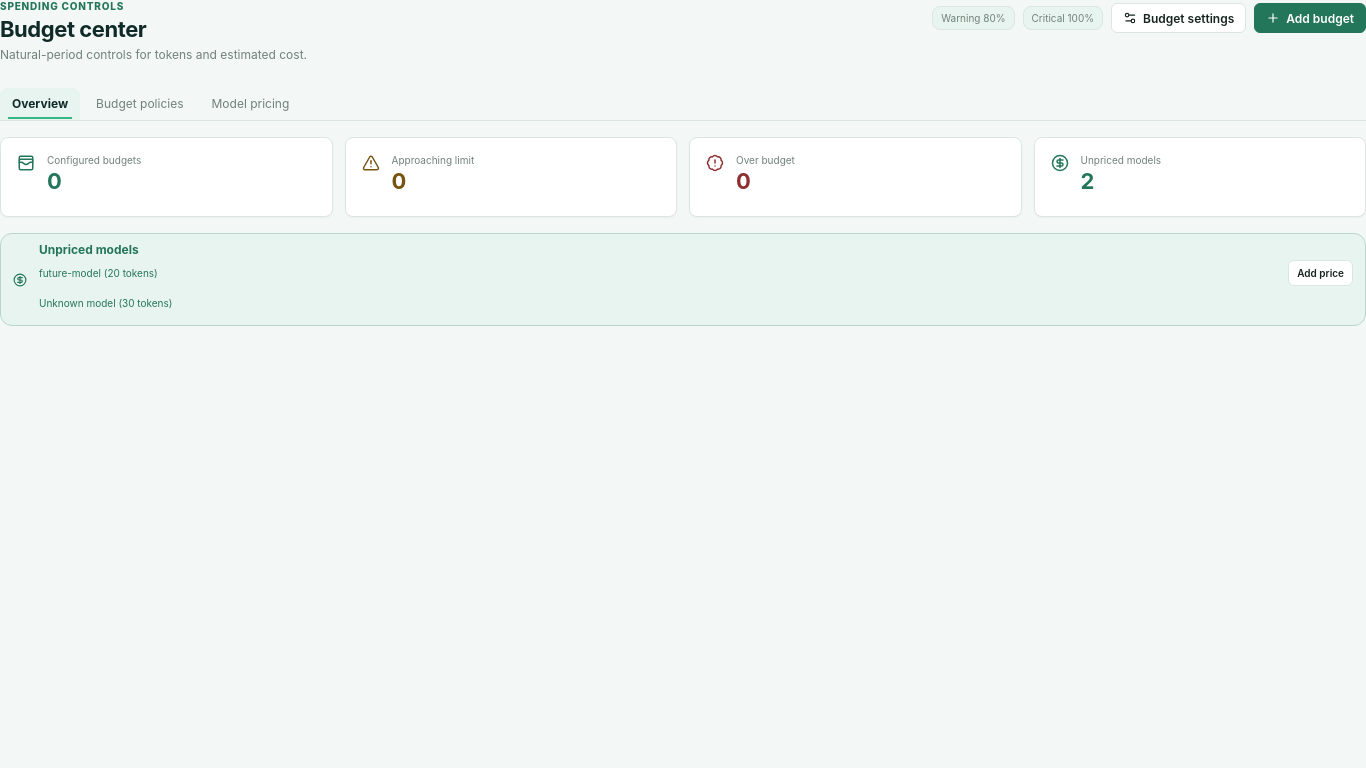
Test: BudgetsView model options › passes priced, concrete unpriced, and one missing-ID option into the budget drawer
Click the button "Add budget" at x=1310, y=18, box [1254,3,1365,33]
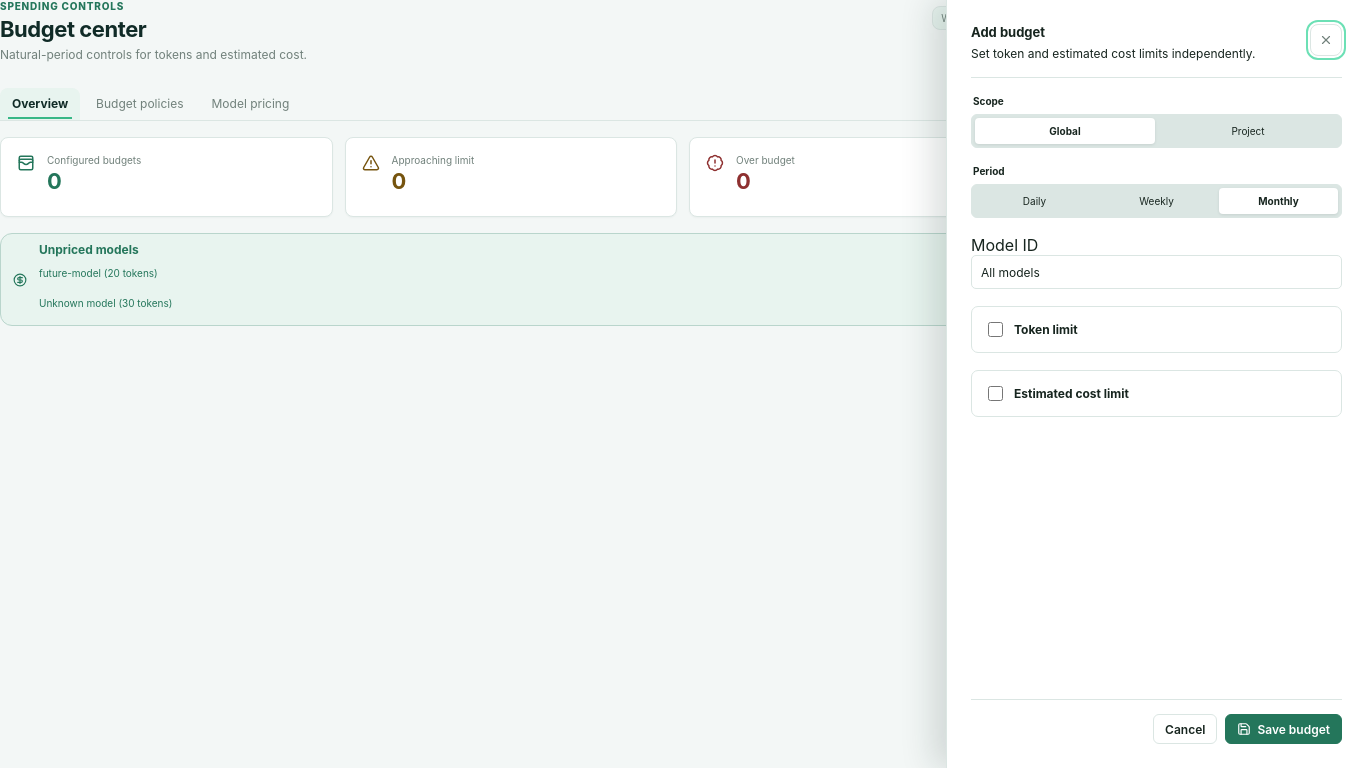
Focus the dropdown labelled "Model ID" at x=1156, y=272, box [971,255,1342,289]
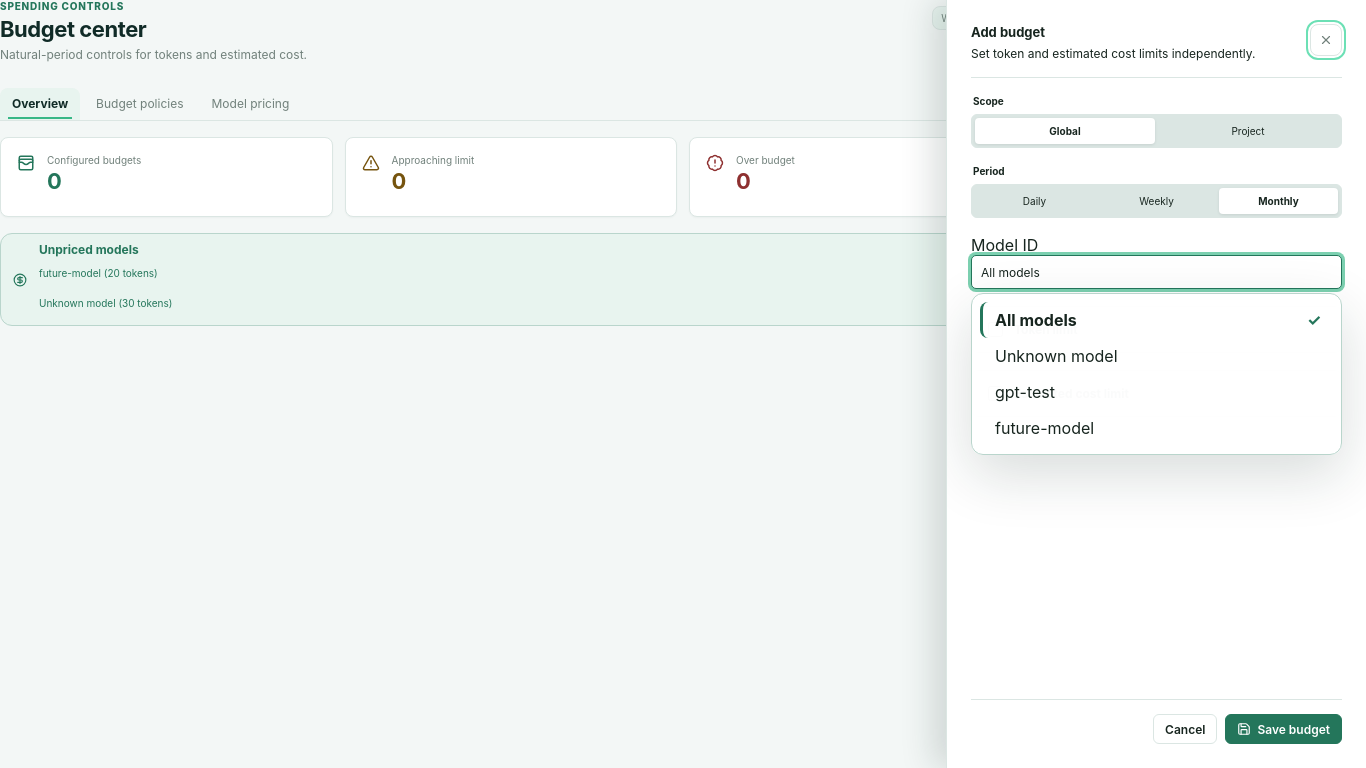
expect the option "gpt-test" is shown: met, box [995,382,1055,402]
expect the option "future-model" is shown: met, box [995,418,1094,438]
expect the number of options "Unknown model" is 1: met, box [995,346,1118,366]
